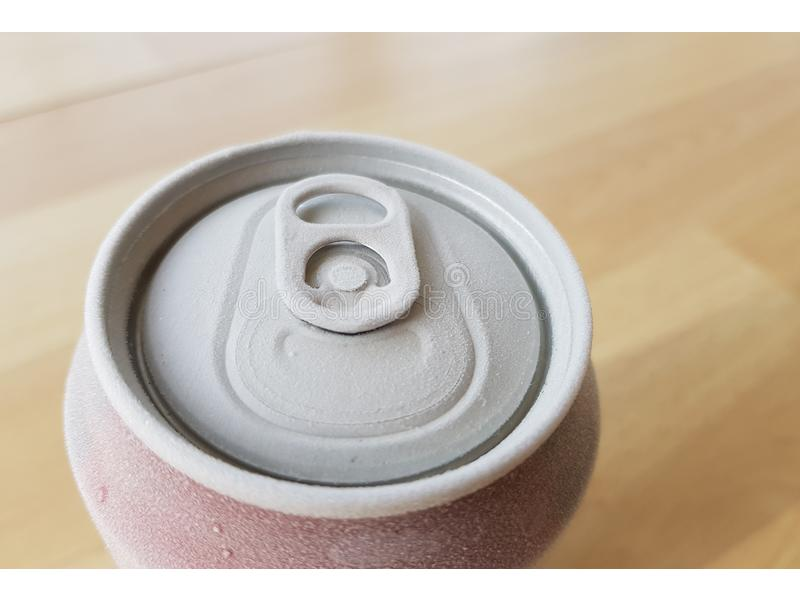can: (67, 117, 643, 569)
